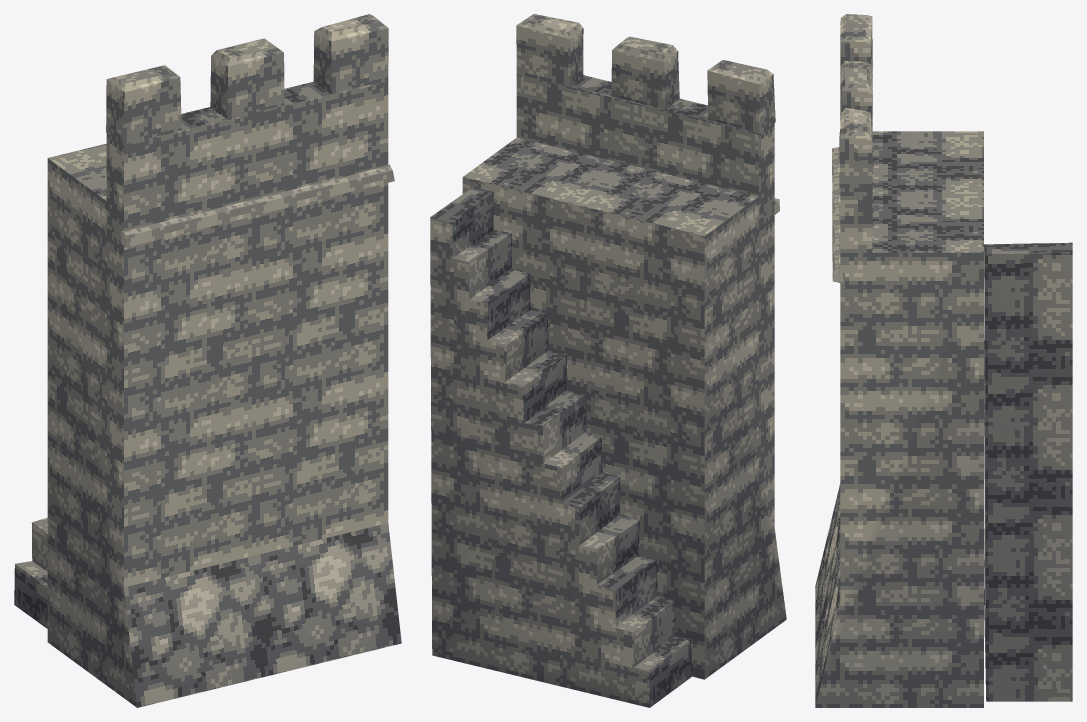
File: cst.curtain__stair.glb
The picture shows the model from 3 angles, left to right: view 1: azimuth 30°, elevation 25°; view 2: azimuth 150°, elevation 25°; view 3: azimuth 270°, elevation 25°; orthographic projection. The views are drawn at different scales.
Parts seen in each view (by area): view 1: kit_wall, kit_top, kit_detail; view 2: kit_wall, kit_detail, kit_top; view 3: kit_wall, kit_detail, kit_top.
Part boxes in pixels (x1=…): kit_wall: x1=47, y1=81, x2=401, y2=707; kit_top: x1=106, y1=14, x2=388, y2=144; kit_detail: x1=14, y1=164, x2=394, y2=628; kit_wall: x1=462, y1=74, x2=786, y2=679; kit_detail: x1=430, y1=187, x2=779, y2=707; kit_top: x1=516, y1=14, x2=775, y2=133; kit_wall: x1=815, y1=68, x2=983, y2=707; kit_detail: x1=832, y1=147, x2=1072, y2=701; kit_top: x1=839, y1=14, x2=872, y2=187.
Bounding box in the file's own units: 4.07 × 8.85 × 3.59.
4 materials, 4 textured.
